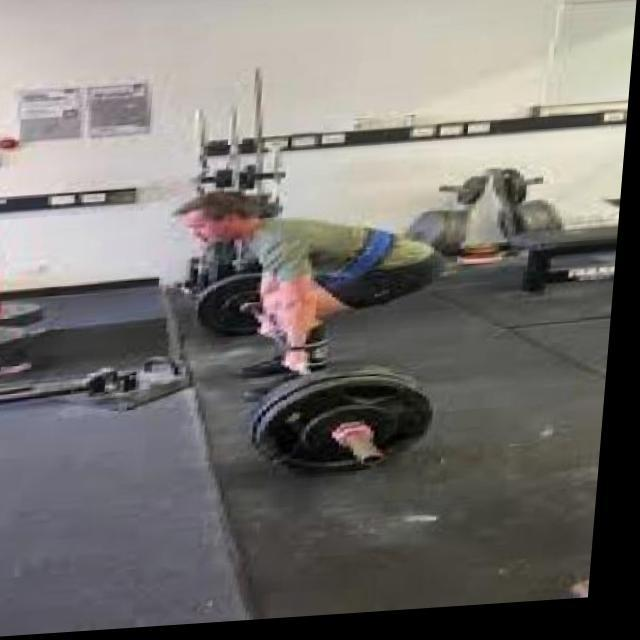barbell: (259, 374, 447, 487)
